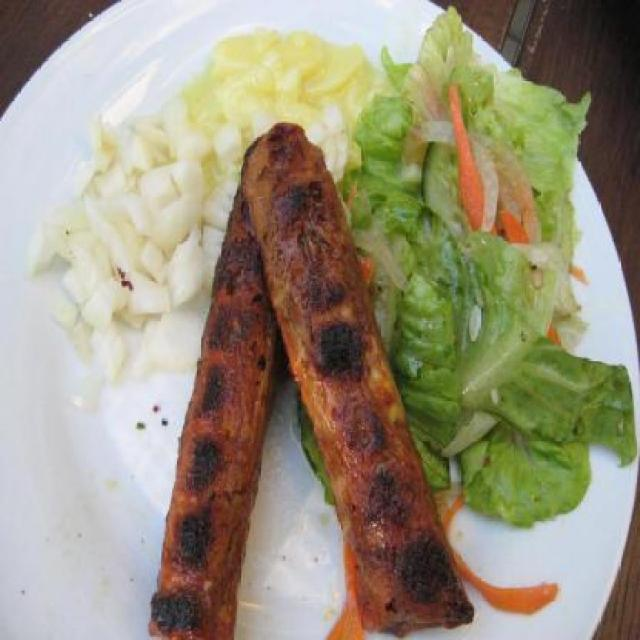Salad: (21, 1, 640, 640)
